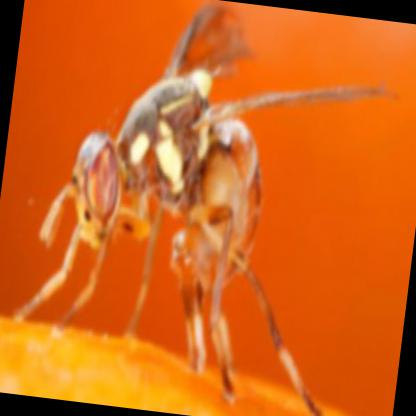fruit fly: (16, 0, 318, 416)
